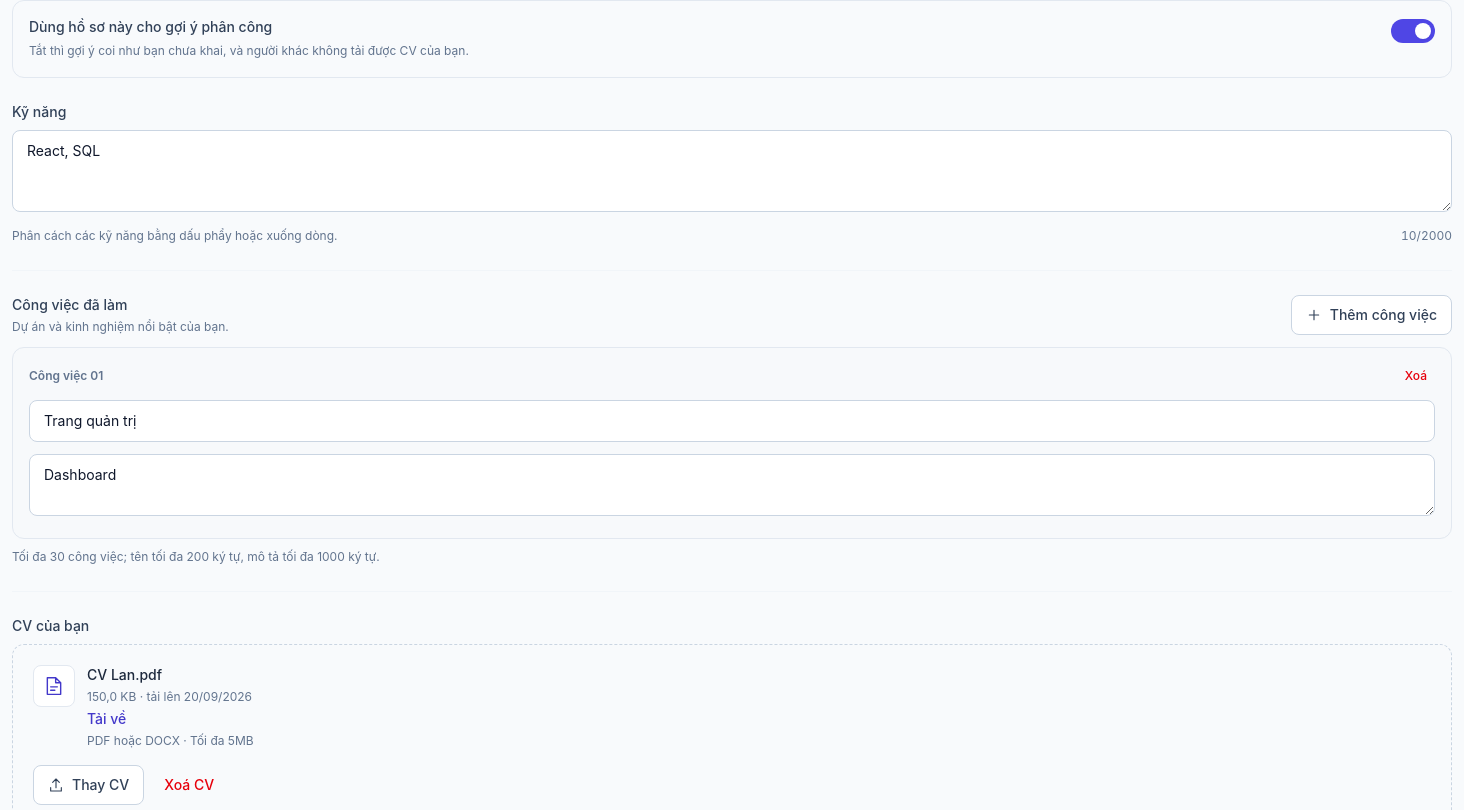
Test: DeclaredProfileSection - sửa và lưu › xoá một công việc; "Hoàn tác" trả về như đã lưu
This screenshot has width=1464, height=810.
Click the button with aria-label "Xoá công việc 1".
click(1416, 376)  # box [1397,364,1435,388]
(page scrolled)
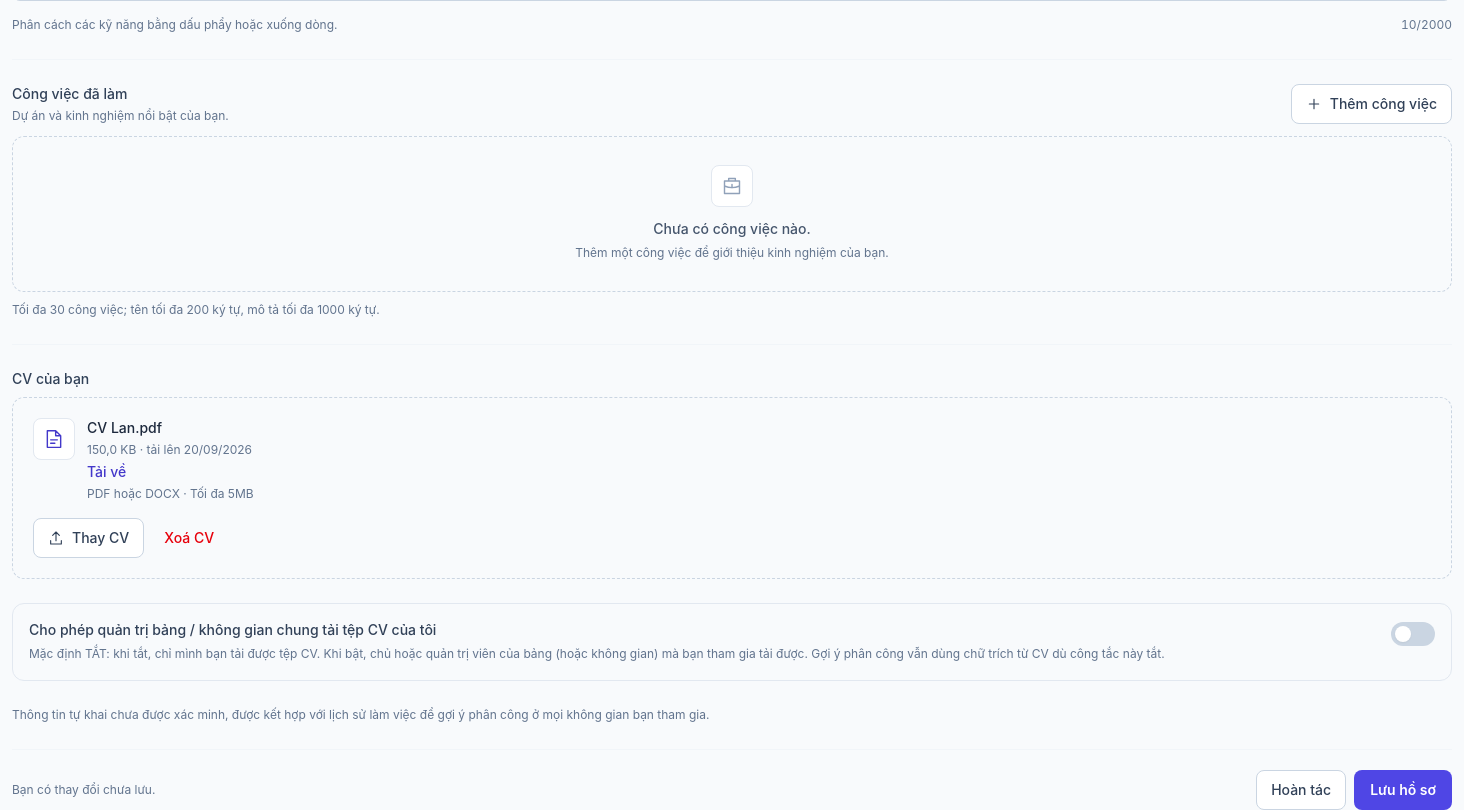
Expected: the button "Lưu hồ sơ" is enabled, [1354,770,1452,809]
Click the button "Hoàn tác".
click(1301, 790)  # box [1256,770,1346,809]
(page scrolled)
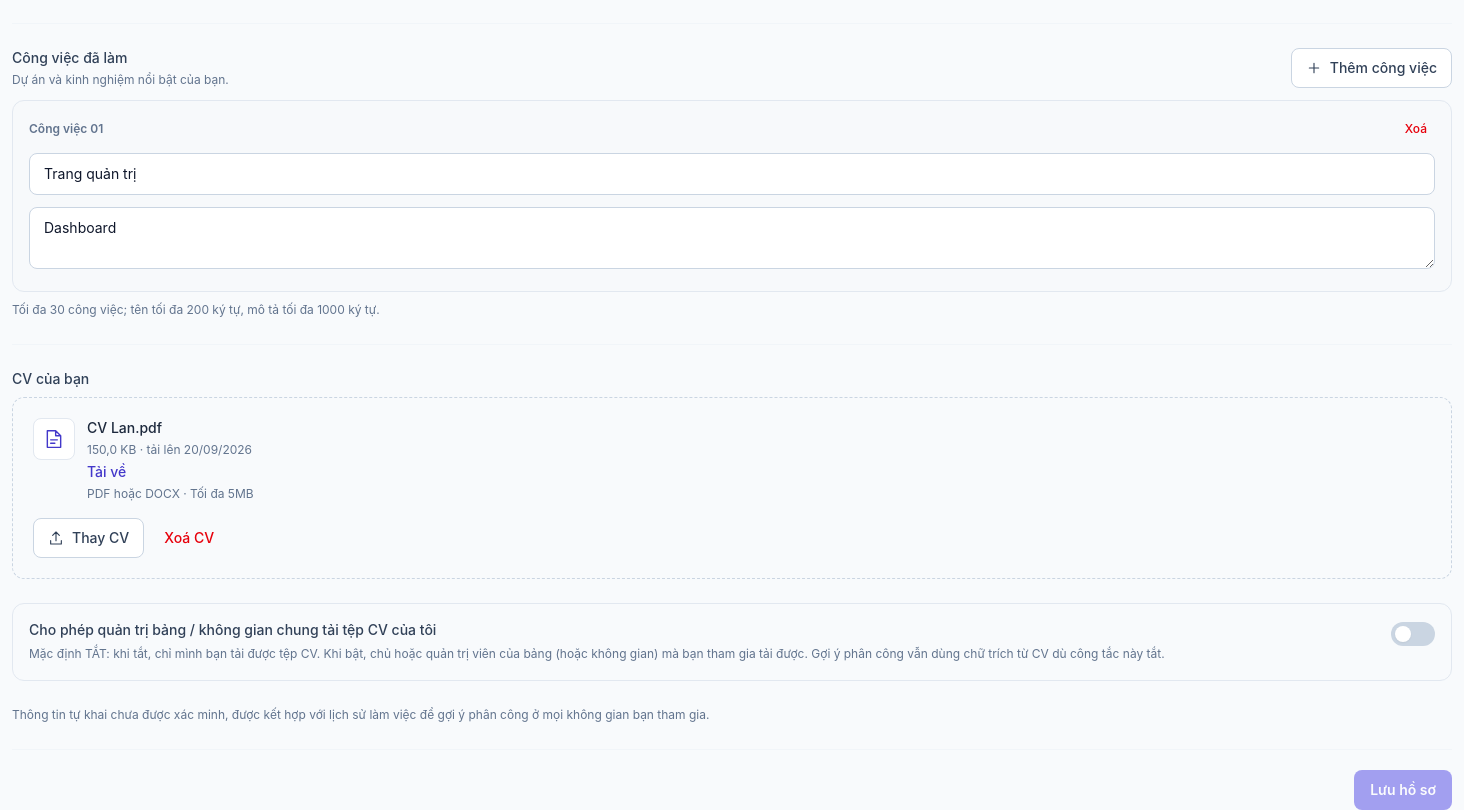
Expected: the field named "Tên công việc 1" holds "Trang quản trị", [29,153,1435,195]
Expected: the button "Lưu hồ sơ" is disabled, [1354,770,1452,809]
